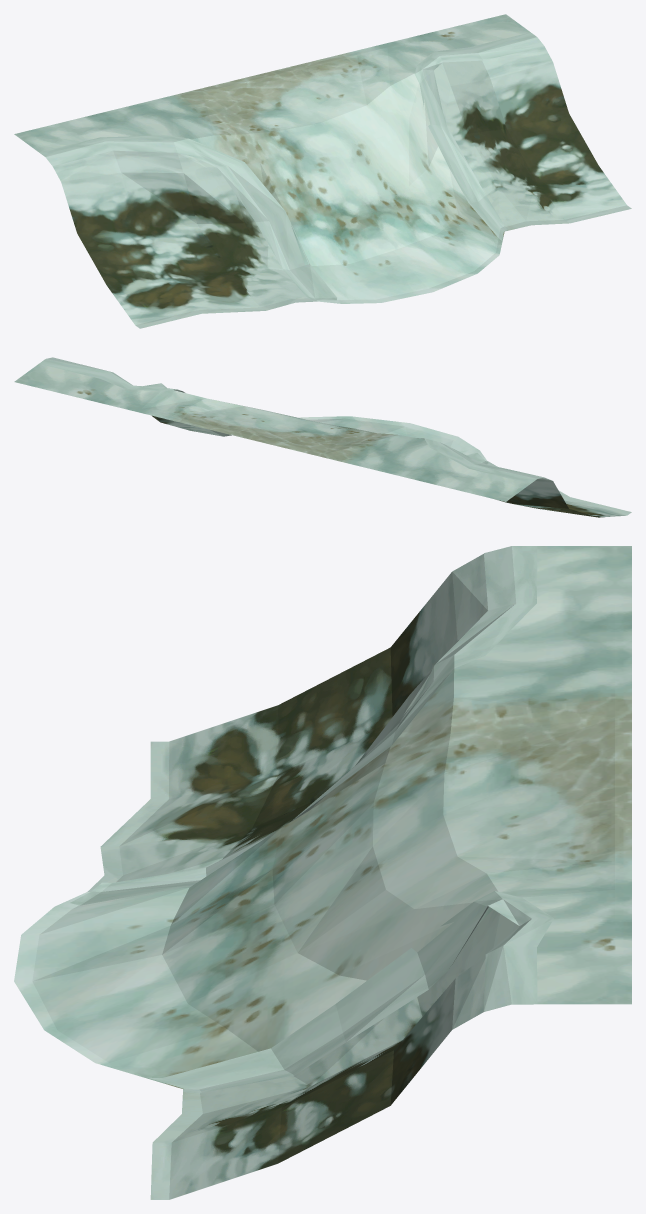
File: tundra_ramp01.fbx
The picture shows the model from 3 angles, top to bottom: view 1: azimuth 30°, elevation 25°; view 2: azimuth 150°, elevation 25°; view 3: azimuth 270°, elevation 25°; orthographic projection. The views are drawn at different scales.
Parts seen in each view (by area): view 1: obj4; view 2: obj4; view 3: obj4.
Boxes of the visible parts, x1,y1,x2,y2 form: obj4: [14, 14, 631, 328]; obj4: [14, 357, 631, 517]; obj4: [14, 546, 631, 1199].
Bounding box in the file's own units: 20 × 4.01 × 11.39.
